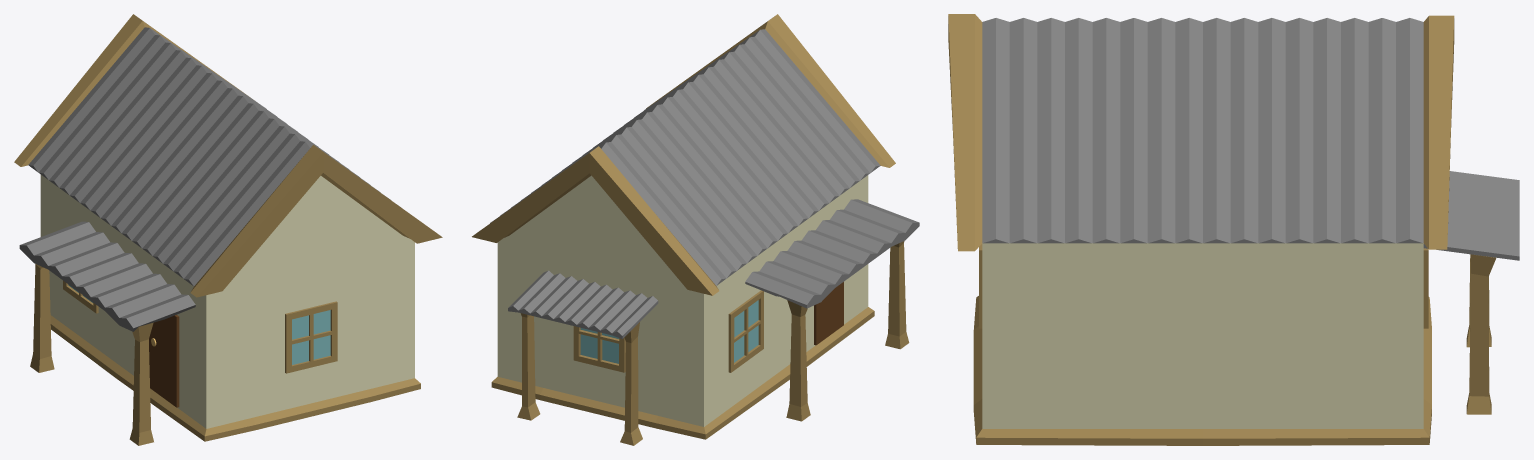
The model's file is РыбацкаяХижина.fbx.
3 views of the same model, side by side, from view 1: azimuth 30°, elevation 25°; view 2: azimuth 150°, elevation 25°; view 3: azimuth 270°, elevation 25° (orthographic). The views are drawn at different scales.
Visible parts, largest first — view 1: РыбацкаяХижина; view 2: РыбацкаяХижина; view 3: РыбацкаяХижина.
Boxes of the visible parts, <box> form: РыбацкаяХижина: <box>14,14,442,445</box>; РыбацкаяХижина: <box>472,14,919,445</box>; РыбацкаяХижина: <box>948,14,1519,445</box>.
Size of the model in its own units: 1953 by 1767 by 2506.
